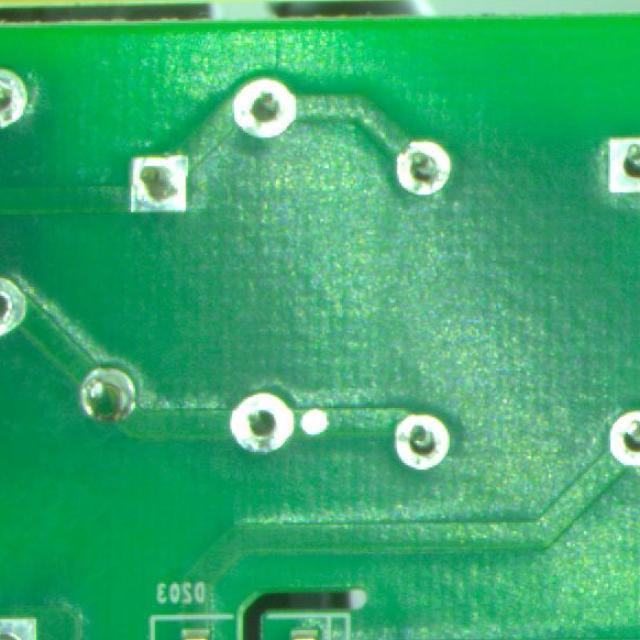low_solder: (230, 393, 294, 452), (395, 415, 449, 470), (398, 141, 449, 194), (609, 137, 640, 192), (610, 410, 640, 466)
